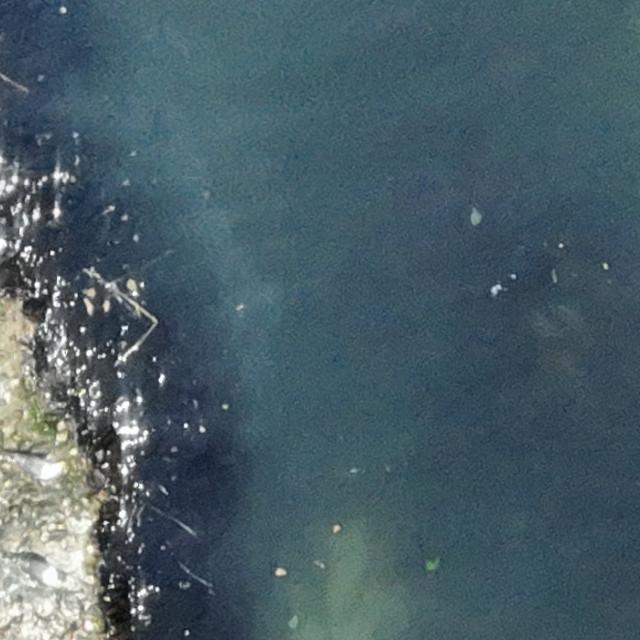umineko: (20, 554, 58, 588), (17, 453, 65, 479)
